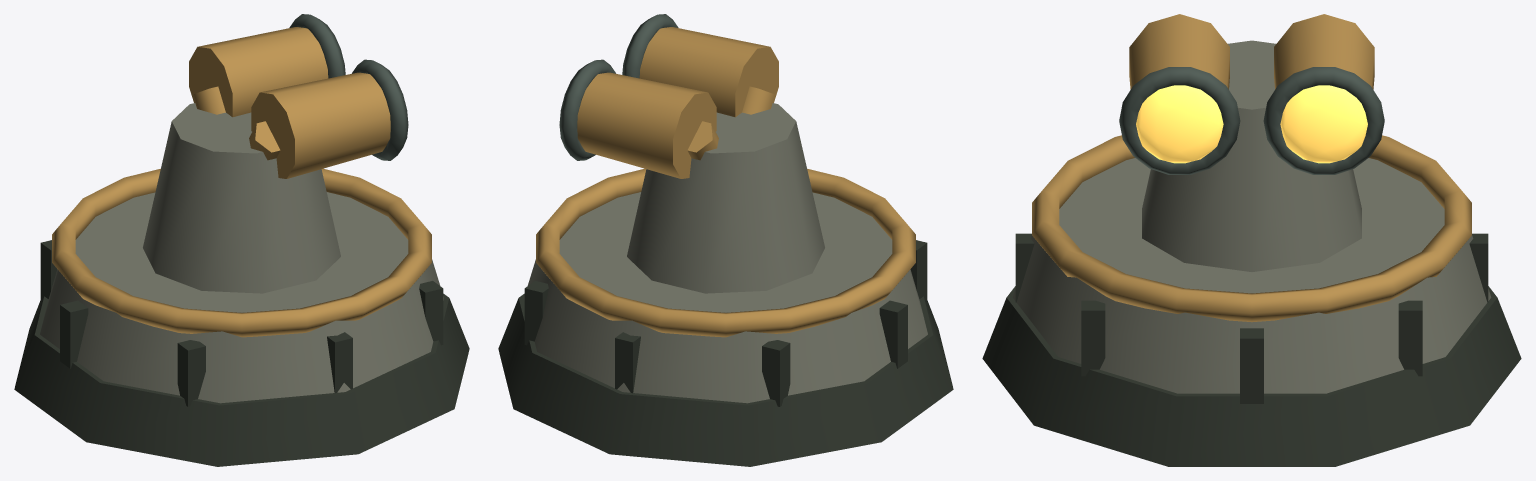
The model's file is tower_laser_laserSplitter.glb.
The picture shows the model from 3 angles, left to right: view 1: azimuth 30°, elevation 25°; view 2: azimuth 150°, elevation 25°; view 3: azimuth 270°, elevation 25°; orthographic projection. The views are drawn at different scales.
Parts seen in each view (by area): view 1: stone_1, foot_0, column_11, rim_2, lens_housing_13, lens_housing_17, focus_ring_14, mortar_6, mortar_7, focus_ring_18, mortar_5, mortar_4 (+3 smaller); view 2: stone_1, foot_0, column_11, rim_2, lens_housing_17, lens_housing_13, focus_ring_18, mortar_8, mortar_7, focus_ring_14, mortar_9, mortar_10 (+3 smaller); view 3: stone_1, foot_0, column_11, rim_2, lens_glass_15, lens_glass_19, focus_ring_14, focus_ring_18, lens_housing_13, lens_housing_17, mortar_3, mortar_4 (+3 smaller).
Part boxes in pixels (<box>): stone_1: <box>40,192,443,403</box>; foot_0: <box>14,293,469,466</box>; column_11: <box>143,103,340,293</box>; rim_2: <box>52,168,431,337</box>; lens_housing_13: <box>251,72,390,178</box>; lens_housing_17: <box>189,27,328,117</box>; focus_ring_14: <box>352,59,408,160</box>; mortar_6: <box>177,340,205,406</box>; mortar_7: <box>60,300,88,368</box>; focus_ring_18: <box>289,14,345,78</box>; mortar_5: <box>327,332,352,393</box>; mortar_4: <box>419,281,443,345</box>; stone_1: <box>524,192,927,403</box>; foot_0: <box>498,293,953,466</box>; column_11: <box>627,103,824,293</box>; rim_2: <box>536,168,915,337</box>; lens_housing_17: <box>577,72,716,178</box>; lens_housing_13: <box>639,27,778,117</box>; focus_ring_18: <box>559,59,615,160</box>; mortar_8: <box>762,340,790,406</box>; mortar_7: <box>879,300,907,368</box>; focus_ring_14: <box>622,14,678,78</box>; mortar_9: <box>615,332,640,393</box>; mortar_10: <box>524,281,548,345</box>; stone_1: <box>1012,158,1491,393</box>; foot_0: <box>982,286,1521,466</box>; column_11: <box>1142,40,1361,271</box>; rim_2: <box>1032,135,1471,322</box>; lens_glass_15: <box>1136,85,1223,163</box>; lens_glass_19: <box>1280,85,1367,163</box>; focus_ring_14: <box>1119,67,1240,174</box>; focus_ring_18: <box>1263,67,1384,174</box>; lens_housing_13: <box>1129,14,1229,89</box>; lens_housing_17: <box>1274,14,1374,89</box>; mortar_3: <box>1240,328,1263,403</box>; mortar_4: <box>1081,300,1105,376</box>.
Size of the model in its own units: 0.5326 by 0.402 by 0.56.
